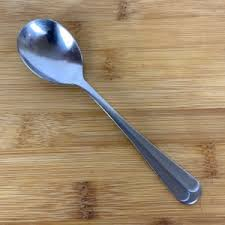spoon: (14, 14, 205, 208)
